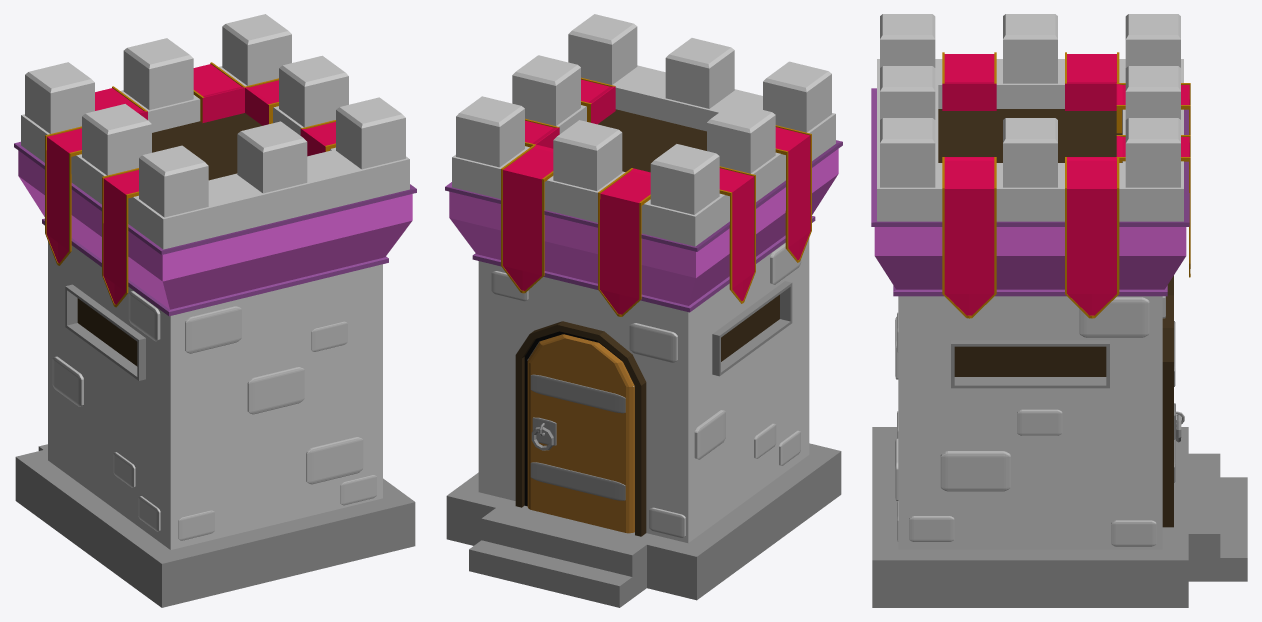
Rendered from Castle.fbx.
The picture shows the model from 3 angles, left to right: view 1: azimuth 30°, elevation 25°; view 2: azimuth 150°, elevation 25°; view 3: azimuth 270°, elevation 25°; orthographic projection. The views are drawn at different scales.
Visible parts, largest first — view 1: castillo; view 2: castillo; view 3: castillo.
Part boxes in pixels (<box>): castillo: <box>14,14,416,607</box>; castillo: <box>445,14,842,607</box>; castillo: <box>871,14,1247,607</box>.
Bounding box in the file's own units: 964 × 1536 × 1128.
